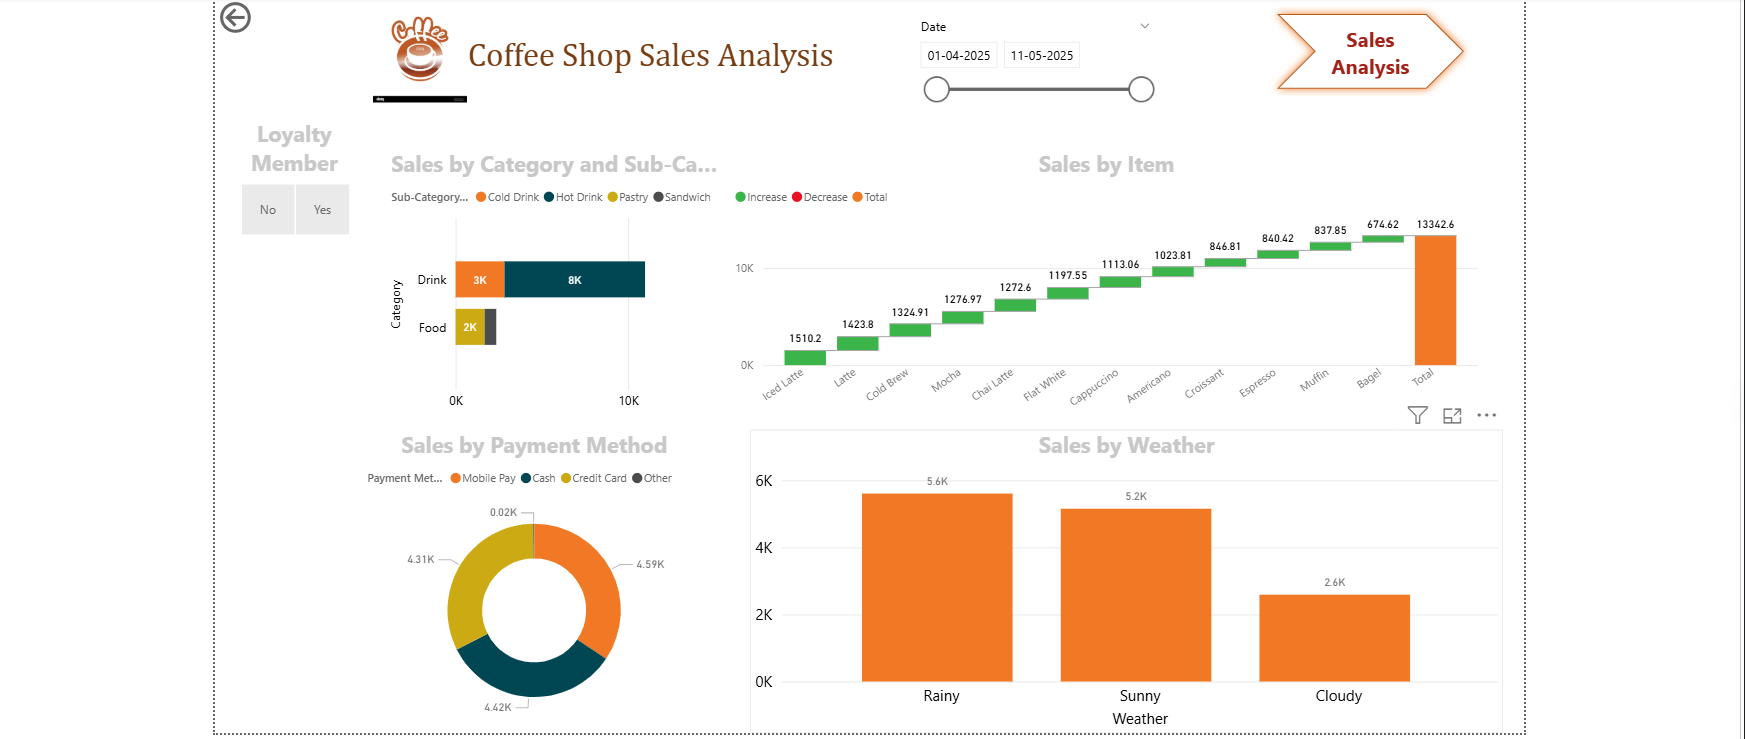

The page's visual inventory and layout, read from the dashboard file:
{"tool":"powerbi","page":{"name":"Sales Analysis","canvas":[1280,720],"ordinal":2},"visuals":[{"type":"barChart","fields":{"Category":["coffeeshop_transactions.Category"],"Y":["coffeeshop_transactions.Sales"],"Series":["coffeeshop_transactions.Sub-Category_fixed"]},"box":[167.4,148.2,336.2,264.8],"z":0},{"type":"waterfallChart","fields":{"Category":["coffeeshop_transactions.Item"],"Y":["coffeeshop_transactions.Sales"]},"box":[503.6,148.2,736.9,264.8],"z":1000},{"type":"donutChart","fields":{"Category":["coffeeshop_transactions.Payment Method"],"Y":["coffeeshop_transactions.Sales"]},"box":[144.1,422.6,336.2,297.8],"z":2000},{"type":"columnChart","fields":{"Y":["coffeeshop_transactions.Sales"],"Category":["coffeeshop_transactions.Weather"]},"box":[522.8,422.6,736.9,297.8],"z":3000},{"type":"slicer","title":"Loyalty Member","fields":{"Values":["coffeeshop_transactions.Loyalty Member"]},"box":[0,118,155.1,120.8],"z":4000},{"type":"slicer","fields":{"Values":["coffeeshop_transactions.Date"]},"box":[677.9,16.5,249.7,91.9],"z":5000},{"type":"shape","box":[1030.5,8.2,199,89.2],"z":6000},{"type":"image","box":[93.3,0,215.4,108.4],"z":7000},{"type":"textbox","box":[212.7,35.7,426.8,72.7],"z":8000},{"type":"actionButton","box":[0,0,100,40],"z":9000}]}

Visuals, with their boxes on the page's 1280x720 design canvas (x1, y1, x2, y2). These are canvas units, not pixel positions in the 1745x739 screenshot, which may show the page scaled, cropped or inside an application window:
barChart - coffeeshop_transactions.Category x coffeeshop_transactions.Sales: [167,148,504,413]
waterfallChart - coffeeshop_transactions.Item x coffeeshop_transactions.Sales: [504,148,1240,413]
donutChart - coffeeshop_transactions.Payment Method x coffeeshop_transactions.Sales: [144,423,480,720]
columnChart - coffeeshop_transactions.Sales x coffeeshop_transactions.Weather: [523,423,1260,720]
"Loyalty Member" slicer: [0,118,155,239]
slicer - coffeeshop_transactions.Date: [678,16,928,108]
shape: [1030,8,1230,97]
image: [93,0,309,108]
textbox: [213,36,640,108]
actionButton: [0,0,100,40]
